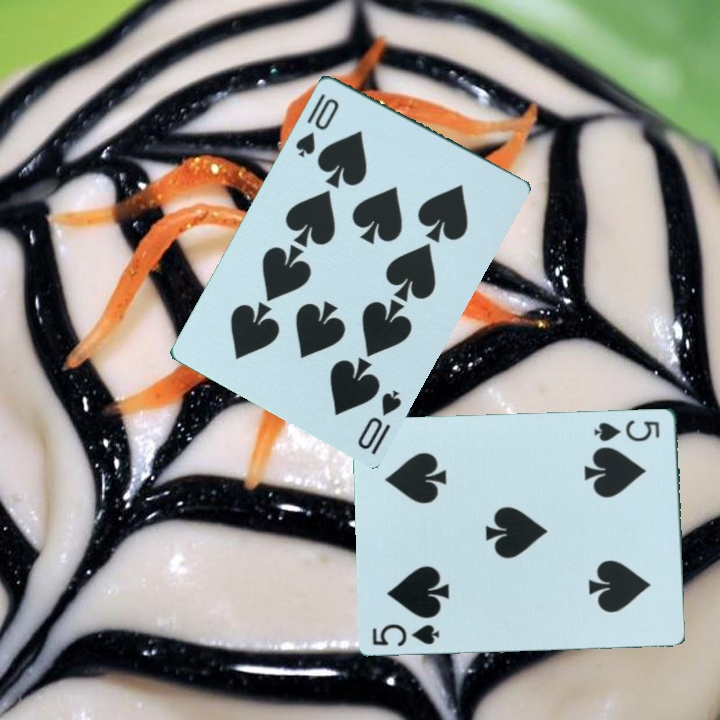10s: (353, 385, 405, 457), (291, 89, 343, 159)
5s: (369, 619, 443, 649), (591, 415, 663, 444)
